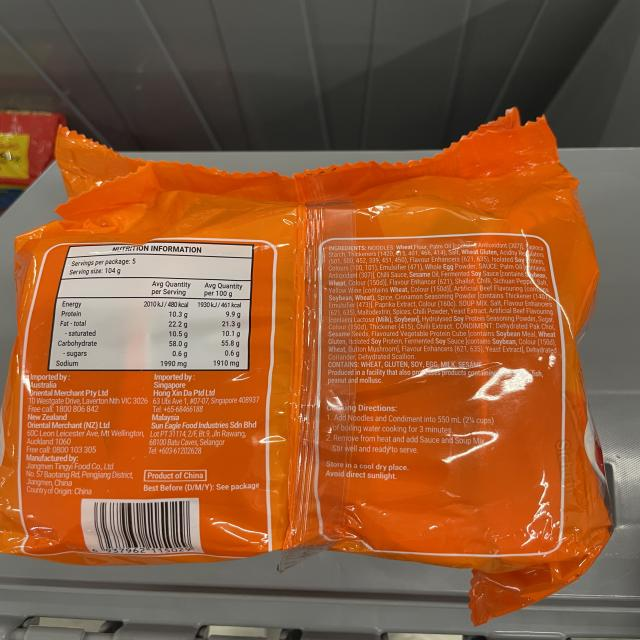object_name: (38, 199, 595, 561)
